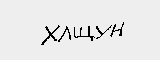Л: (57, 23, 72, 45)
Н: (108, 21, 126, 40)
У: (93, 22, 111, 44)
Х: (37, 24, 59, 46)
Щ: (73, 22, 95, 46)
